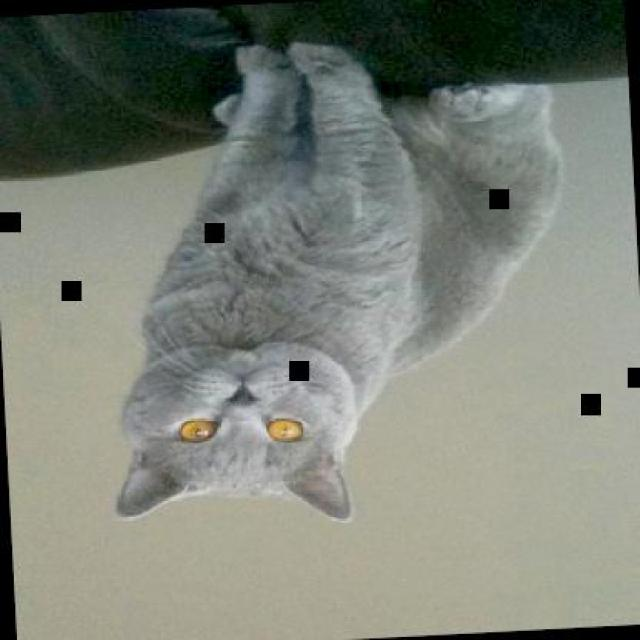cat: (95, 27, 583, 535)
